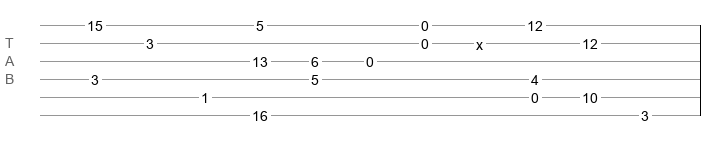0: (366, 54, 374, 64), (421, 18, 429, 28), (421, 36, 429, 46), (531, 90, 539, 100)
1: (201, 90, 209, 100)
10: (582, 90, 598, 100)
12: (527, 18, 543, 28), (582, 36, 598, 46)
13: (252, 54, 268, 64)
15: (87, 18, 103, 28)
16: (252, 108, 268, 118)
3: (91, 72, 99, 82), (146, 36, 154, 46), (641, 108, 649, 118)
4: (531, 72, 539, 82)
5: (256, 18, 264, 28), (311, 72, 319, 82)
6: (311, 54, 319, 64)
x: (476, 37, 483, 45)
